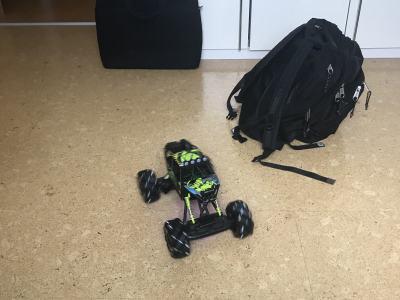remote control car: (133, 136, 257, 259)
